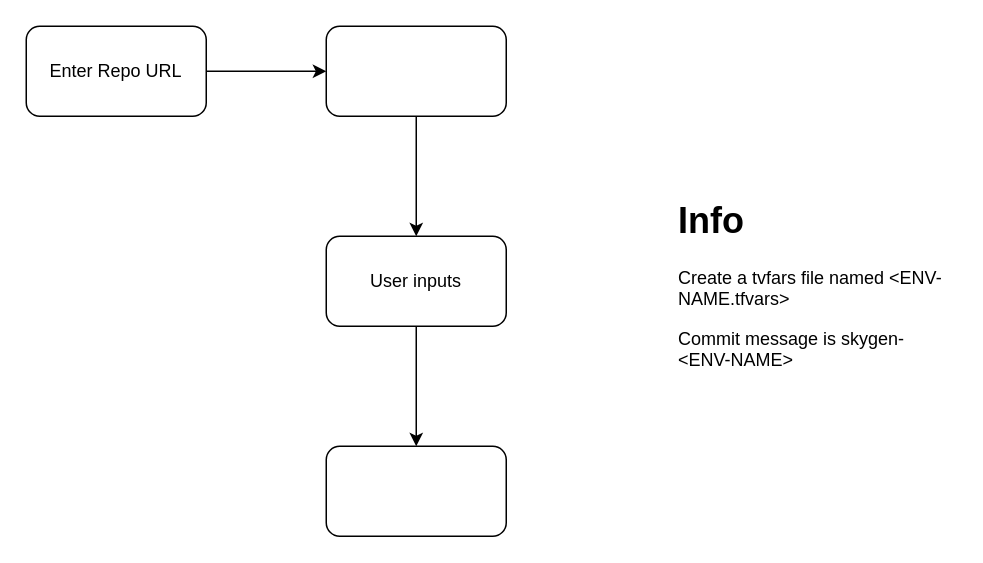
This 983x563 diagram has some shape labels left out. Here are the shapes that lost their labels. From the top down, the centre of each, then its label:
point 415,70: Show Tfvars
point 415,490: Press submit to generate env
